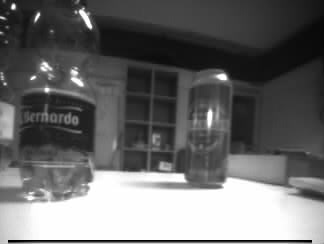Bottle: (17, 1, 97, 200)
Tin can: (187, 68, 228, 185)
